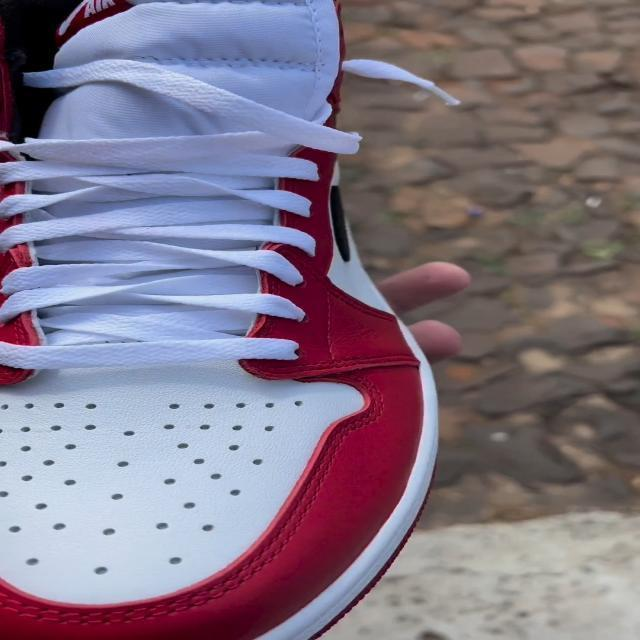nike original jordan 1: (1, 0, 448, 636)
